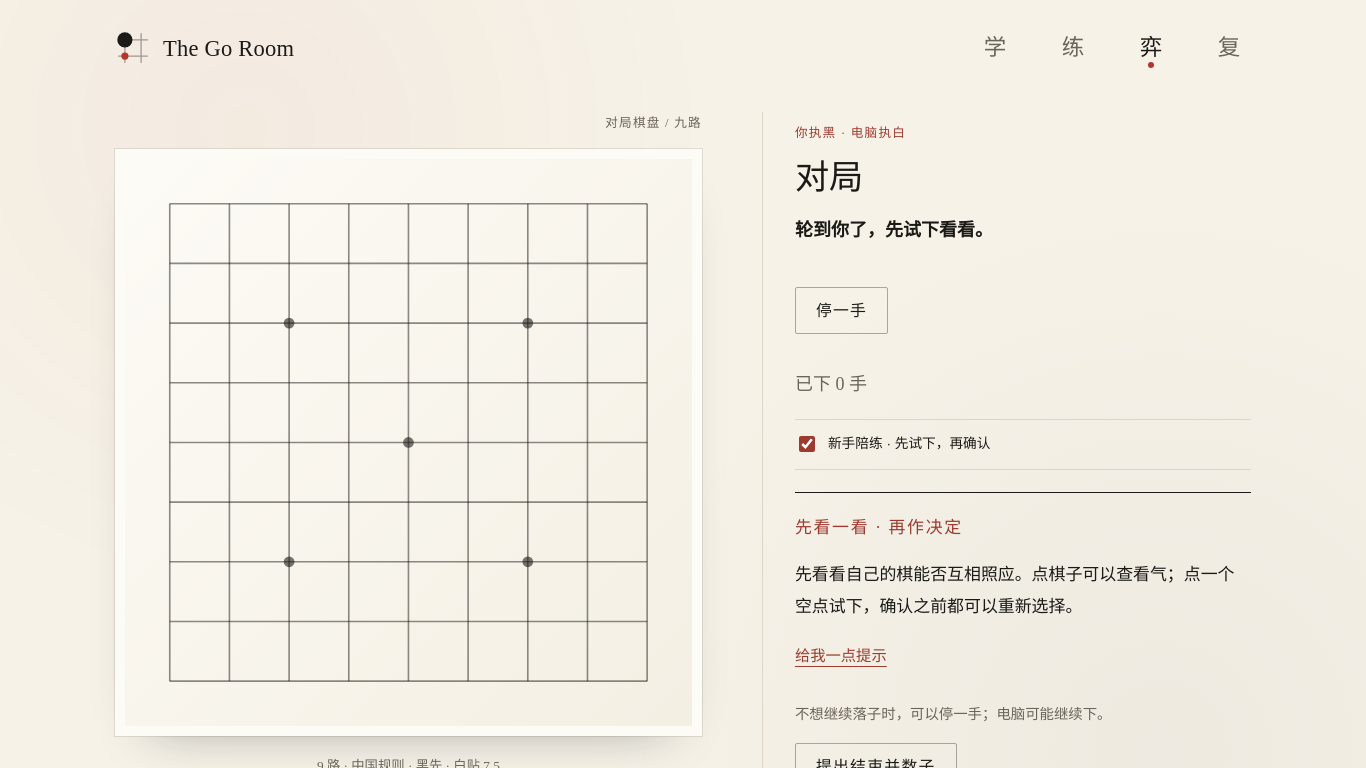
Scenario: 对局到复盘的完整路径 › localStorage 访问本身被禁止仍能完成一盘
Click the button "停一手": (842, 310) x1=795 y1=287 x2=888 y2=334
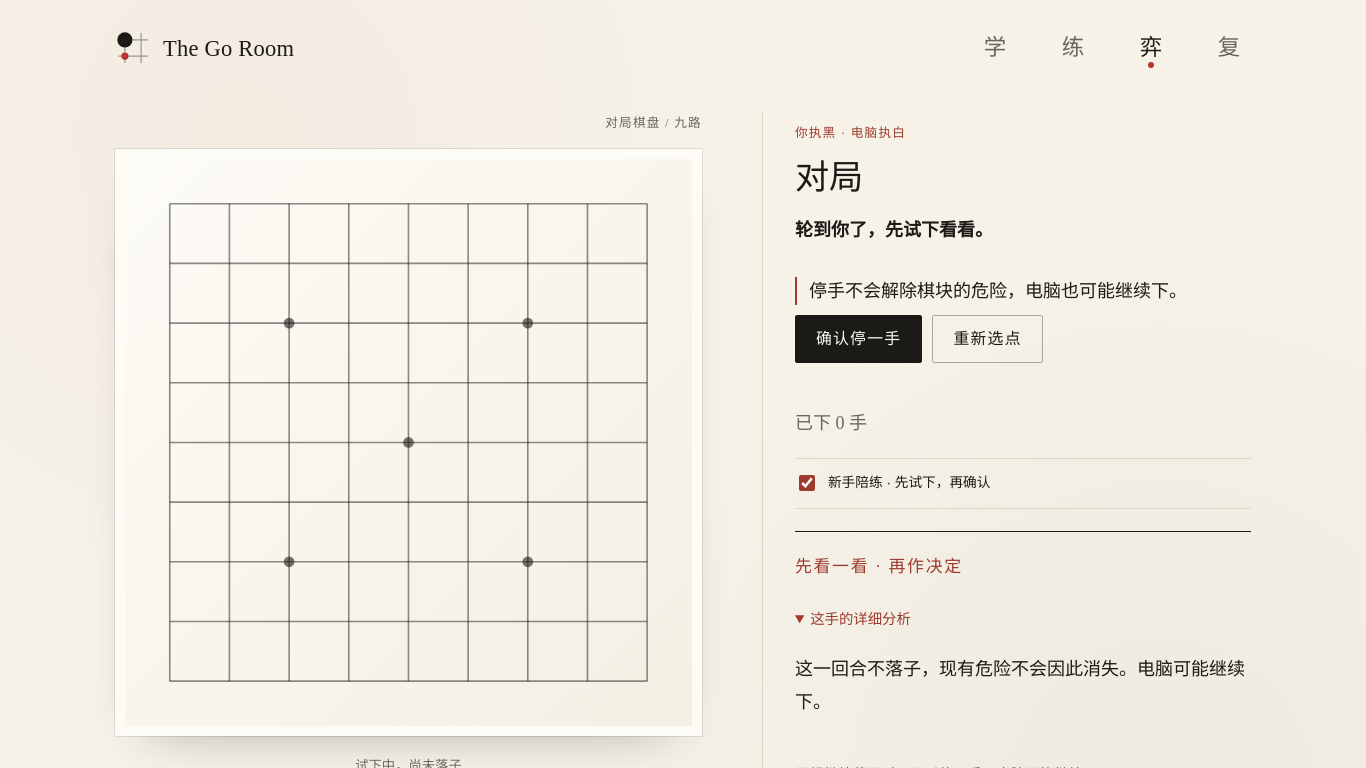
Click the button "确认停一手": (859, 339) x1=795 y1=315 x2=922 y2=363
Wait 350 ms
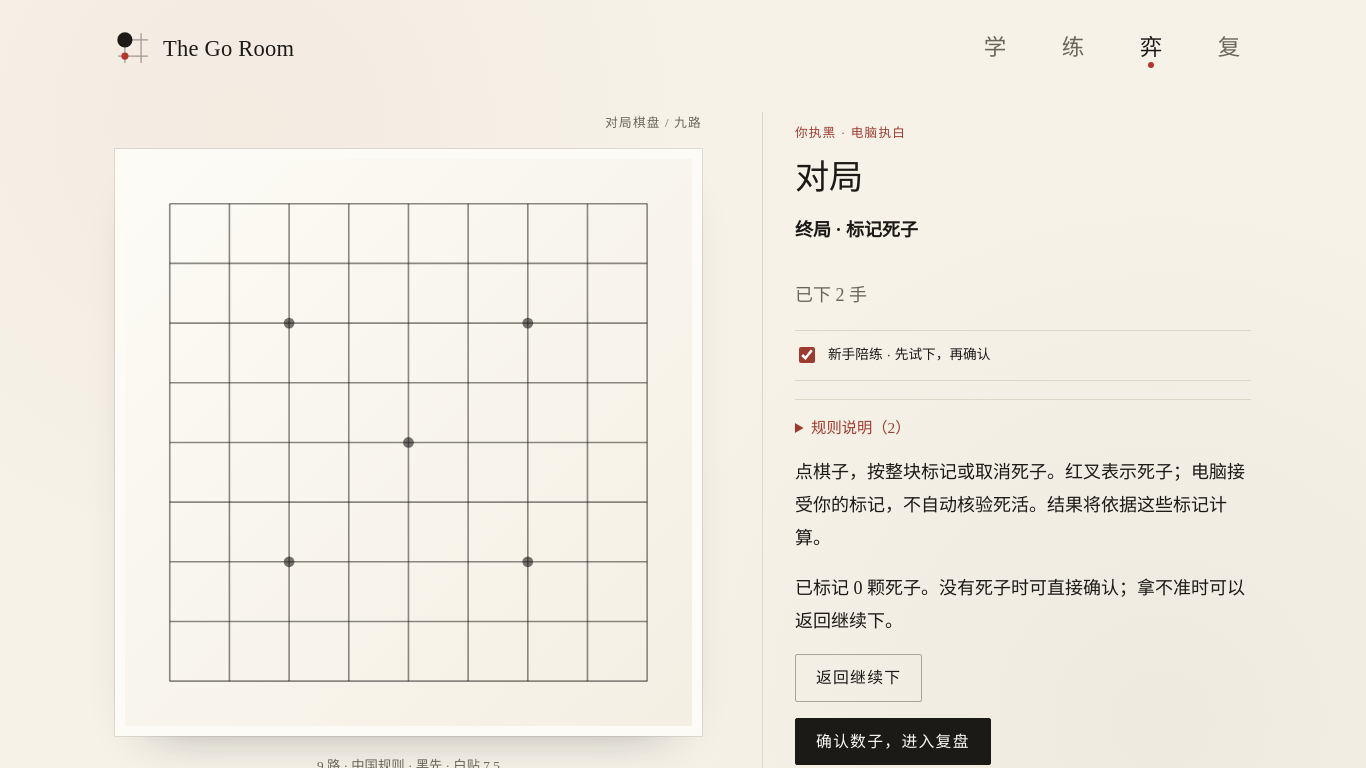
Click the button "确认数子，进入复盘": (893, 741) x1=795 y1=718 x2=991 y2=765
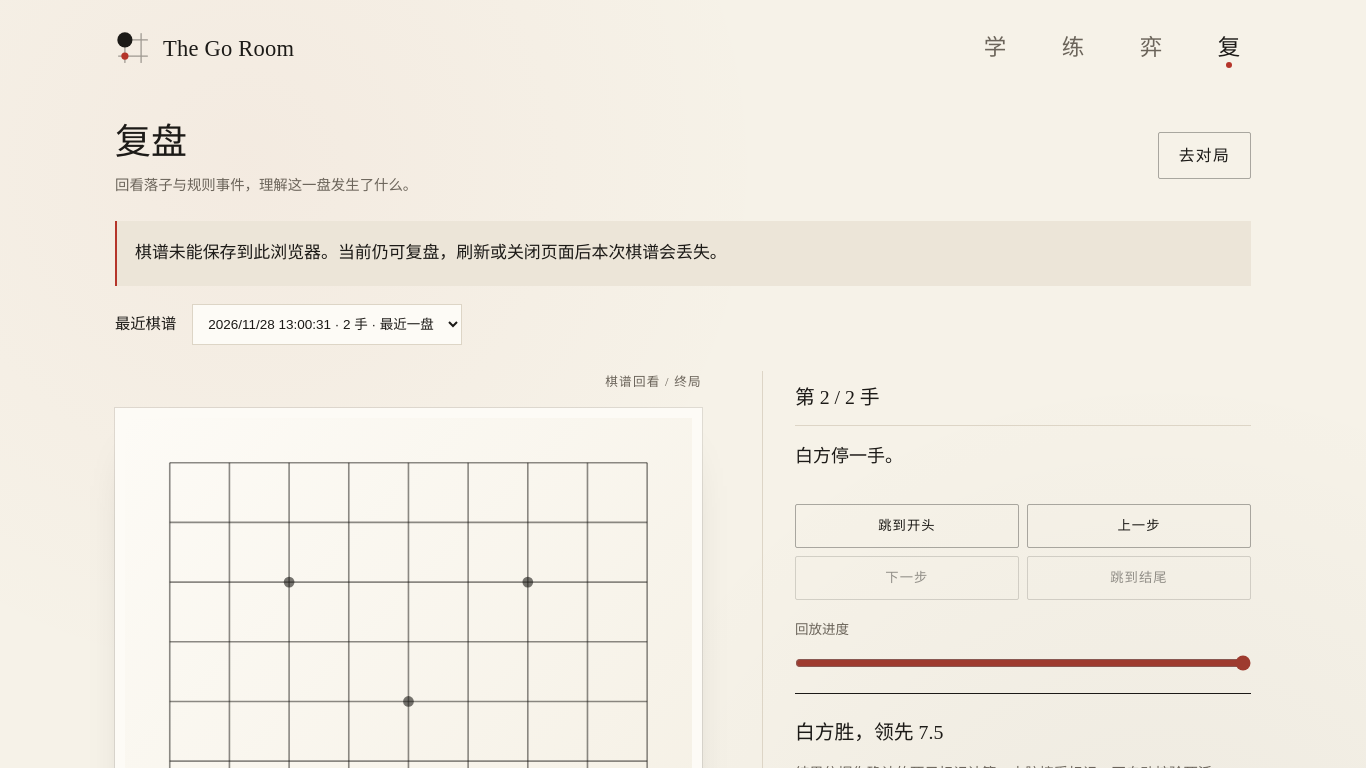
Expected: the message "棋谱未能保存到此浏览器。当前仍可复盘，刷新或关闭页面后本次棋谱会丢失。" is shown, x1=115 y1=221 x2=1251 y2=286
